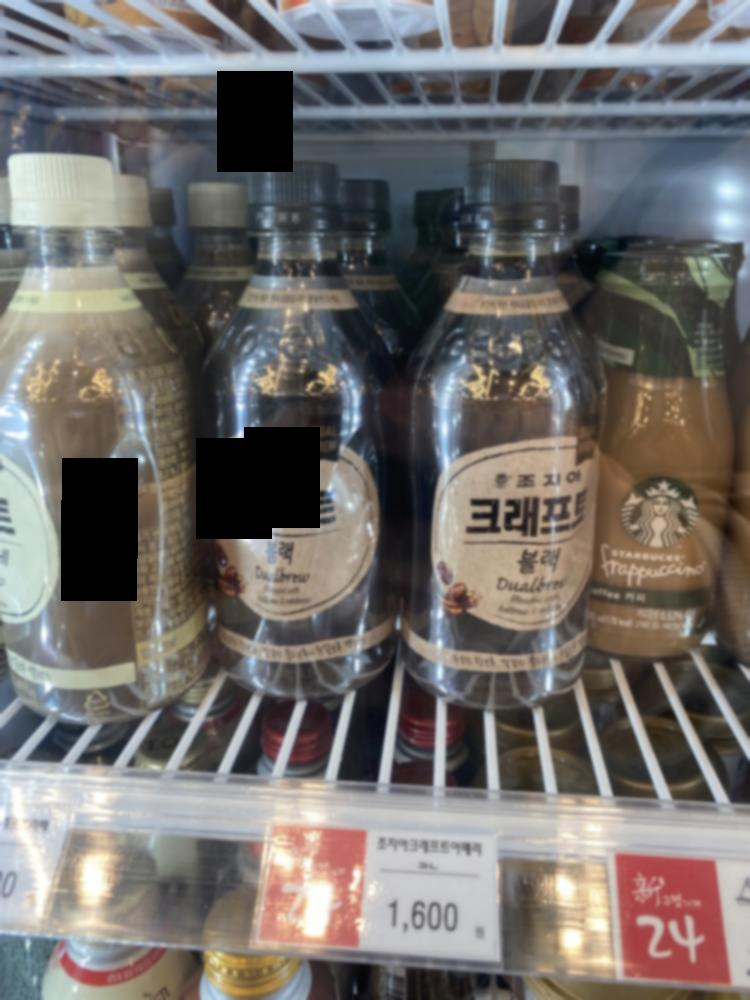georgiacraft_black: (398, 153, 628, 697), (206, 155, 385, 709)
